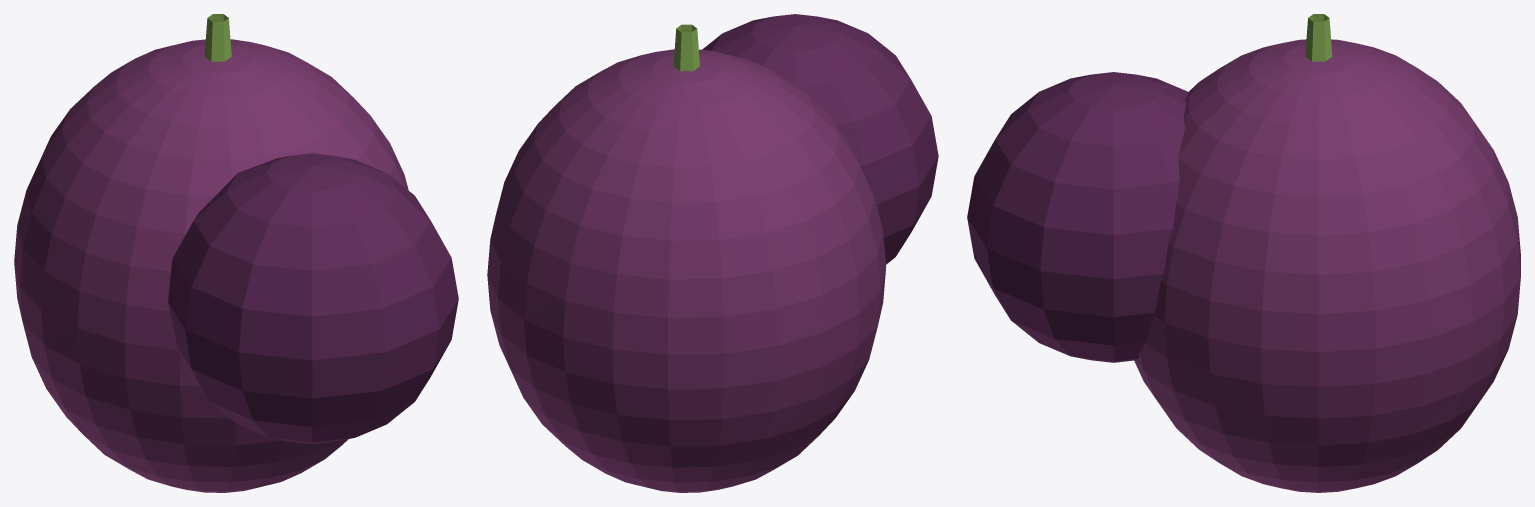
Rendered from plum.obj.
3 views of the same model, side by side, from view 1: azimuth 30°, elevation 25°; view 2: azimuth 150°, elevation 25°; view 3: azimuth 270°, elevation 25° (orthographic). The views are drawn at different scales.
Bounding box in the file's own units: 0.836 × 1.04 × 1.13.
